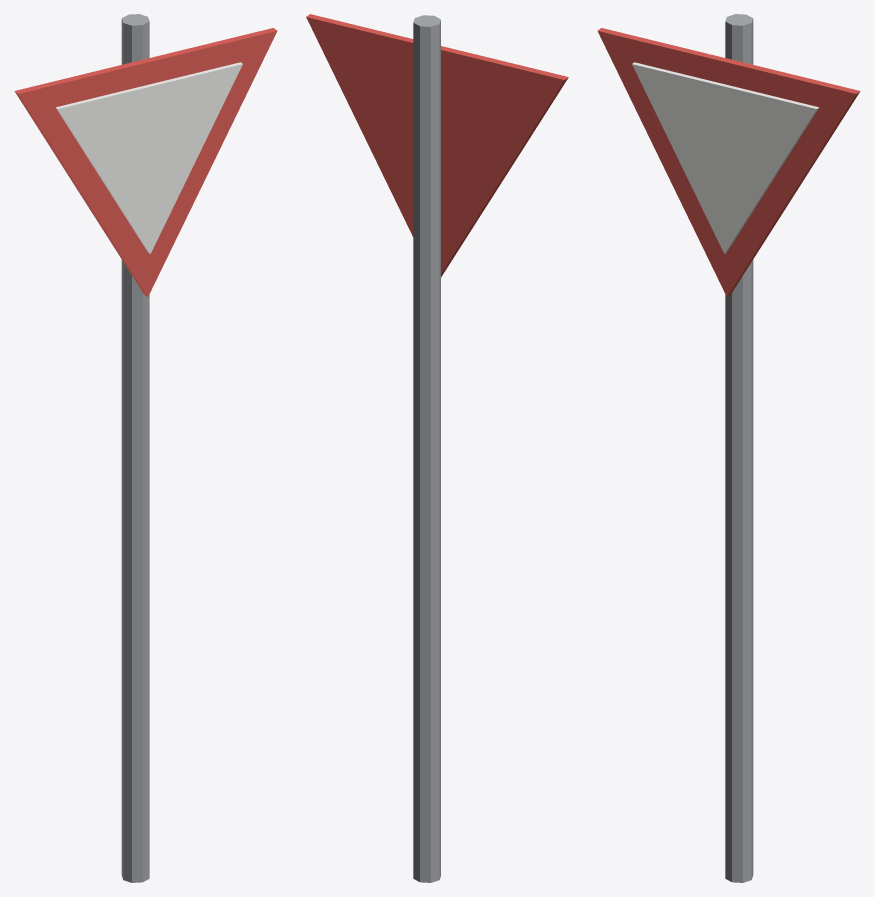
Rendered from sign-triangle.glb.
3 renders of one model, left to right at view 1: azimuth 30°, elevation 25°; view 2: azimuth 150°, elevation 25°; view 3: azimuth 330°, elevation 25°, orthographic.
Visible parts, largest first — view 1: sign-triangle; view 2: sign-triangle; view 3: sign-triangle.
Part boxes in pixels (left/top/right/bottom): sign-triangle: left=14, top=14, right=277, bottom=882; sign-triangle: left=306, top=14, right=568, bottom=882; sign-triangle: left=597, top=14, right=860, bottom=882.
Bounding box in the file's own units: 0.7275 × 2.3 × 0.107.
